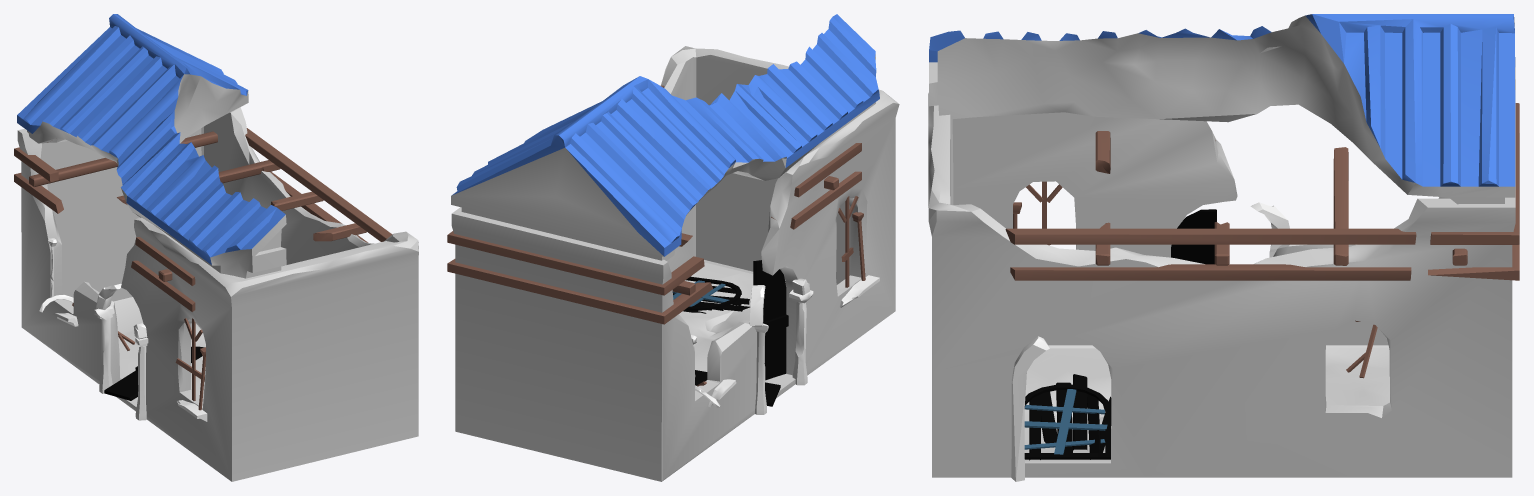
Rendered from civilian_house_ruin_e.FBX.
3 renders of one model, left to right at view 1: azimuth 30°, elevation 25°; view 2: azimuth 150°, elevation 25°; view 3: azimuth 270°, elevation 25°, orthographic. The views are drawn at different scales.
Visible parts, largest first — view 1: civilian_house_ruin_e_LOD0; view 2: civilian_house_ruin_e_LOD0; view 3: civilian_house_ruin_e_LOD0.
Boxes of the visible parts, left/top/right/bottom form: civilian_house_ruin_e_LOD0: left=14, top=14, right=418, bottom=481; civilian_house_ruin_e_LOD0: left=447, top=14, right=899, bottom=481; civilian_house_ruin_e_LOD0: left=928, top=14, right=1519, bottom=481.
Size of what is drawn, in the model's own units: 583 by 762 by 1019.
